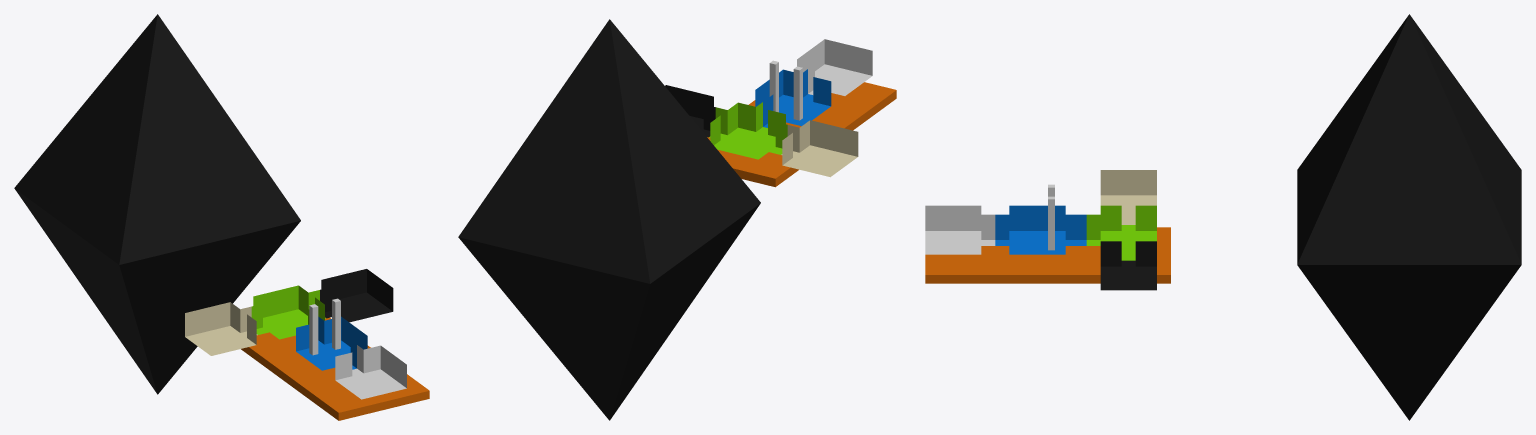
Rendered from sectors.gltf.
The picture shows the model from 3 angles, left to right: view 1: azimuth 30°, elevation 25°; view 2: azimuth 150°, elevation 25°; view 3: azimuth 270°, elevation 25°; orthographic projection. The views are drawn at different scales.
Parts seen in each view (by area): view 1: Prism, Plane, TanRoom, WhiteRoom, BlackRoom, GreenRoom, BlueRoom, Pillar.001, Pillar; view 2: Prism, Plane, TanRoom, GreenRoom, WhiteRoom, BlueRoom, BlackRoom, Pillar.001, Pillar; view 3: Prism, Plane, BlueRoom, WhiteRoom, BlackRoom, GreenRoom, TanRoom.
Part boxes in pixels (x1=…): Prism: x1=14, y1=14, x2=300, y2=394; Plane: x1=241, y1=317, x2=429, y2=420; TanRoom: x1=185, y1=302, x2=257, y2=355; WhiteRoom: x1=335, y1=345, x2=406, y2=399; BlackRoom: x1=320, y1=269, x2=393, y2=322; GreenRoom: x1=251, y1=285, x2=325, y2=339; BlueRoom: x1=296, y1=316, x2=367, y2=370; Pillar.001: x1=309, y1=304, x2=318, y2=355; Pillar: x1=332, y1=298, x2=340, y2=349; Prism: x1=458, y1=19, x2=760, y2=420; Plane: x1=707, y1=82, x2=896, y2=187; TanRoom: x1=781, y1=120, x2=858, y2=177; GreenRoom: x1=709, y1=102, x2=787, y2=159; WhiteRoom: x1=797, y1=39, x2=872, y2=95; BlueRoom: x1=755, y1=69, x2=831, y2=127; BlackRoom: x1=665, y1=85, x2=715, y2=137; Pillar.001: x1=793, y1=66, x2=802, y2=120; Pillar: x1=769, y1=60, x2=778, y2=112; Prism: x1=1297, y1=14, x2=1521, y2=420; Plane: x1=925, y1=227, x2=1170, y2=283; BlueRoom: x1=995, y1=205, x2=1086, y2=254; WhiteRoom: x1=925, y1=205, x2=995, y2=254; BlackRoom: x1=1100, y1=241, x2=1156, y2=290; GreenRoom: x1=1086, y1=205, x2=1156, y2=260; TanRoom: x1=1100, y1=170, x2=1156, y2=224.
Bounding box in the file's own units: 32 × 64 × 85.
